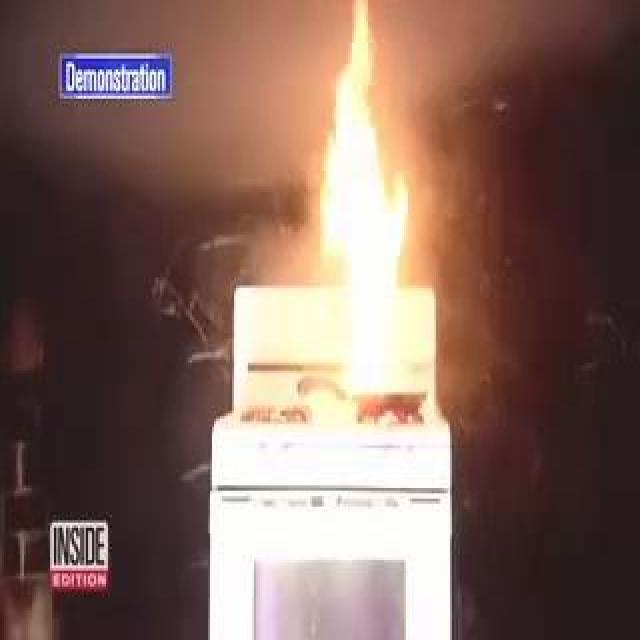Fire: (308, 2, 420, 410)
